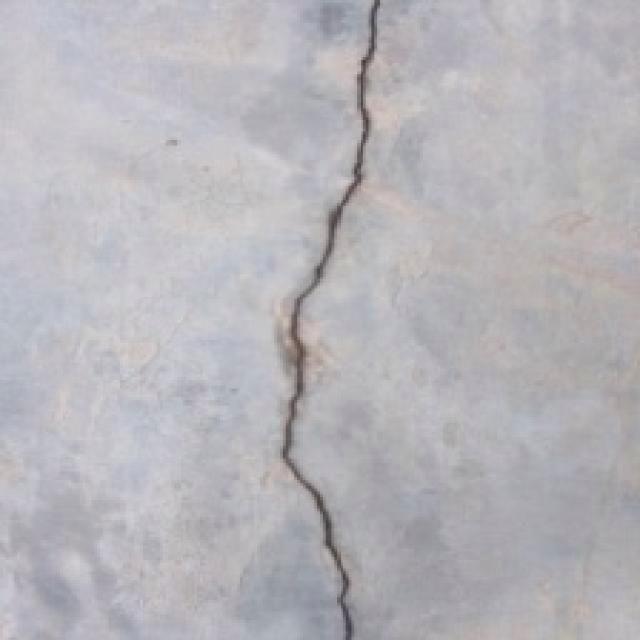SurfaceCrack: (240, 0, 444, 640)
